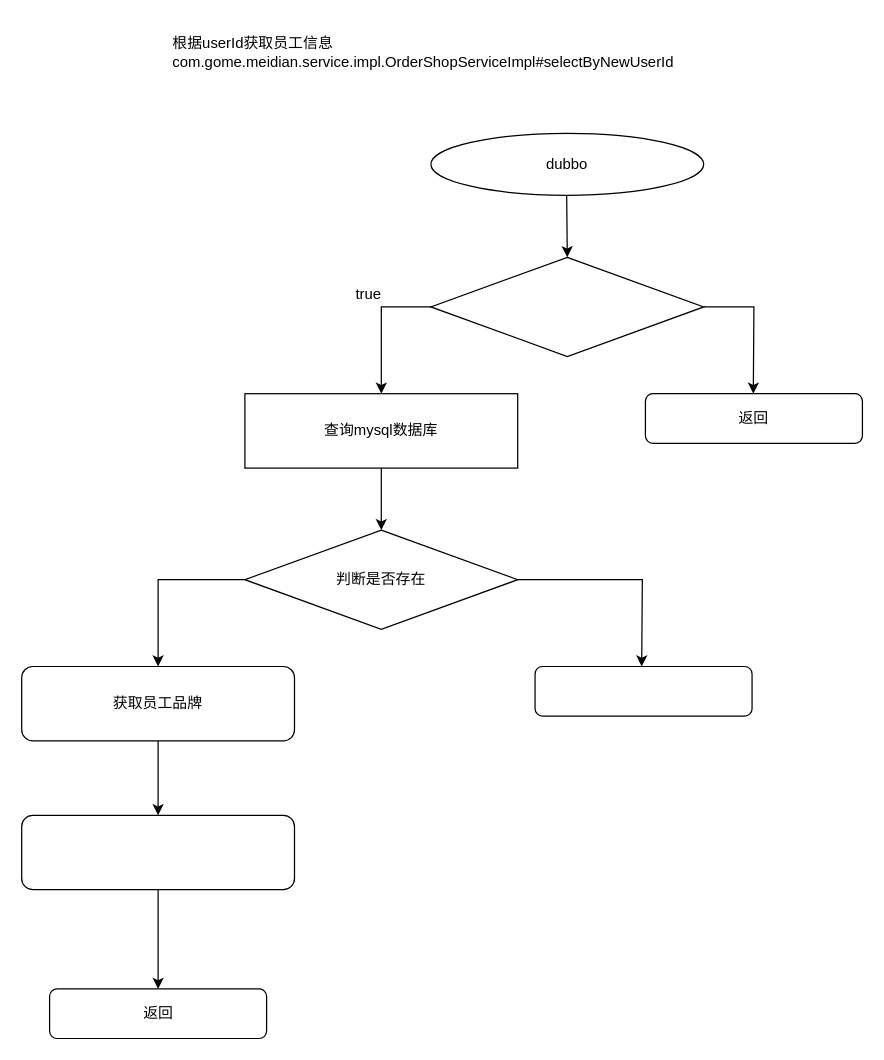
Some shapes in this 884 by 1060 pixel diagram are drawn without their labels. The centre of each missing label's shape, as x and y in pixels:
"判断是否在缓存中" belongs at [567,306].
"数据组装" belongs at [157,852].
"返回空" belongs at [643,690].
